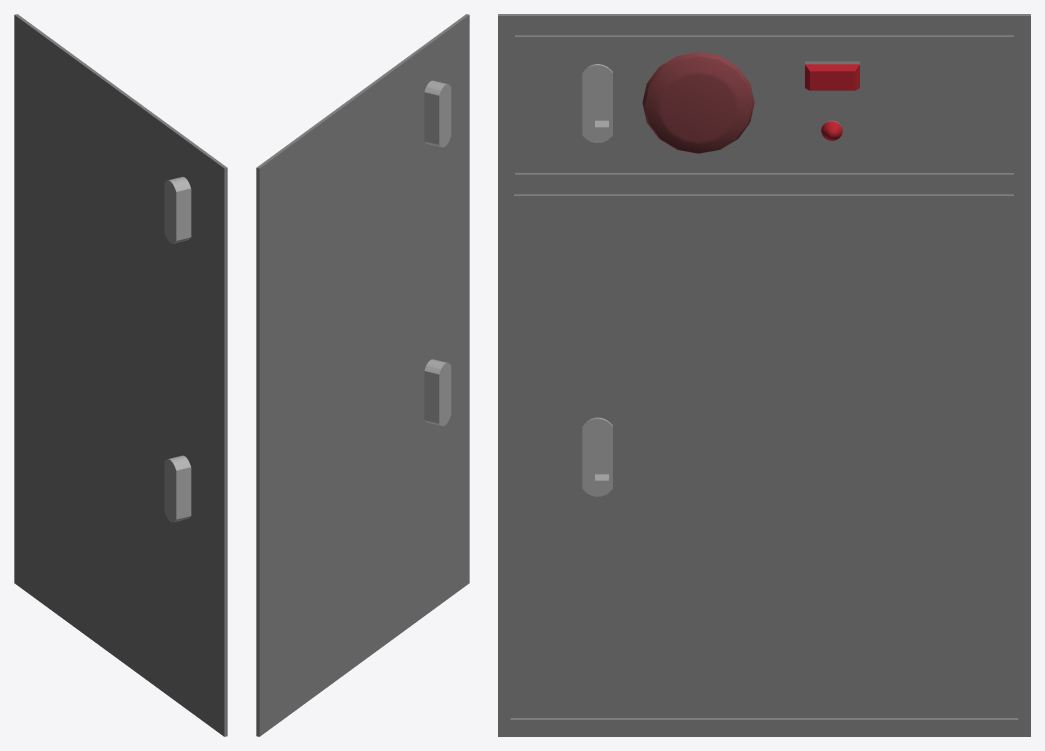
File: hydrant.fbx
3 renders of one model, left to right at view 1: azimuth 30°, elevation 25°; view 2: azimuth 150°, elevation 25°; view 3: azimuth 270°, elevation 25°, orthographic. The views are drawn at different scales.
Visible parts, largest first — view 1: Cube, Cube.001, Cube.003; view 2: Cube, Cube.001, Cube.003; view 3: Cube, Cylinder, Cube.001, Cube.003, Cube.004.
Part boxes in pixels (x1,y1,x2,y2): Cube: (14,14,227,736); Cube.001: (164,455,191,522); Cube.003: (164,176,191,243); Cube: (256,14,469,736); Cube.001: (424,359,451,426); Cube.003: (424,80,451,147); Cube: (498,14,1030,736); Cylinder: (642,52,754,153); Cube.001: (582,417,612,496); Cube.003: (582,64,612,142); Cube.004: (805,61,859,90).
Size of the model in its own units: 39.22 by 694 by 465.
